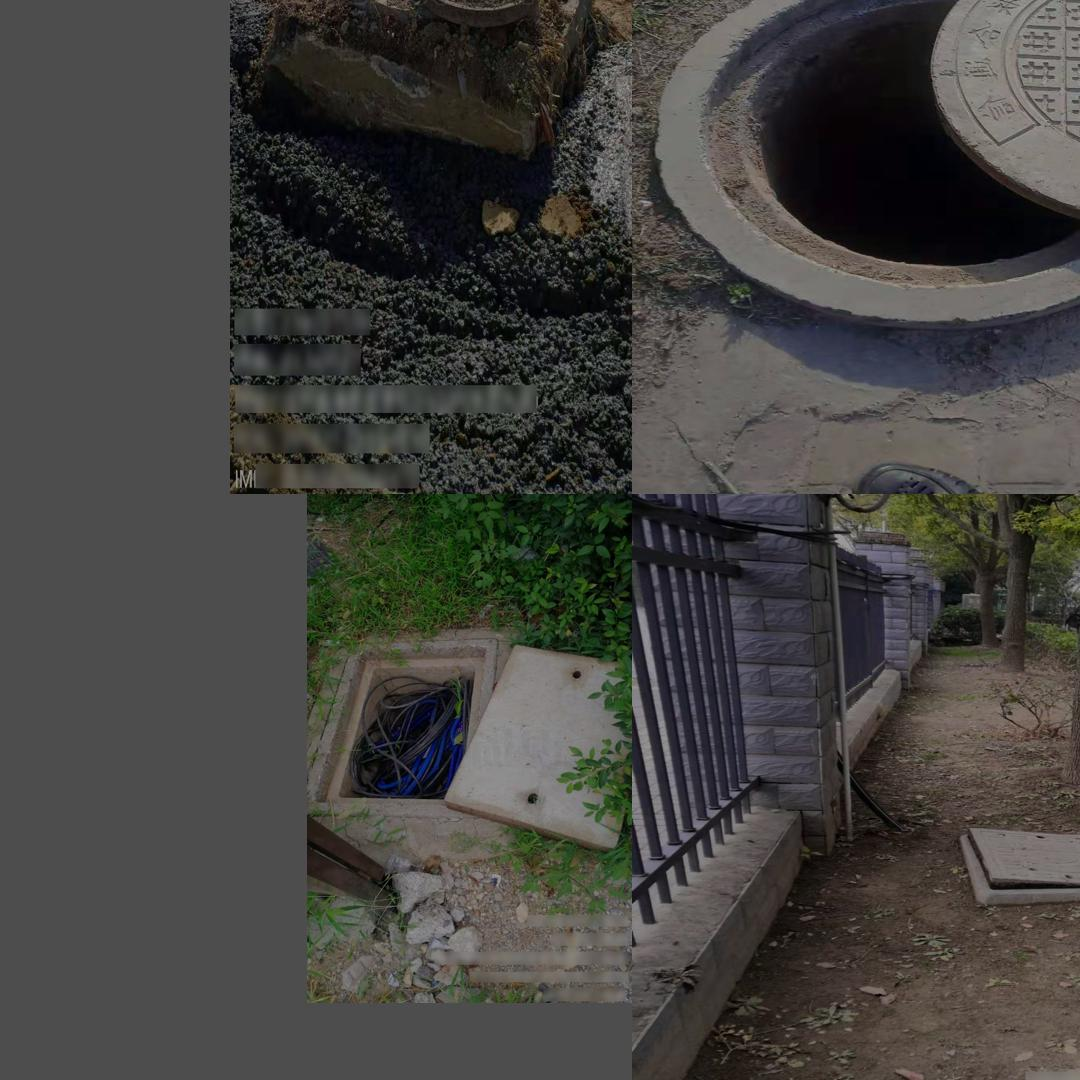uncovered: (657, 0, 1080, 320), (307, 644, 631, 854), (959, 823, 1080, 908), (343, 0, 544, 29)
